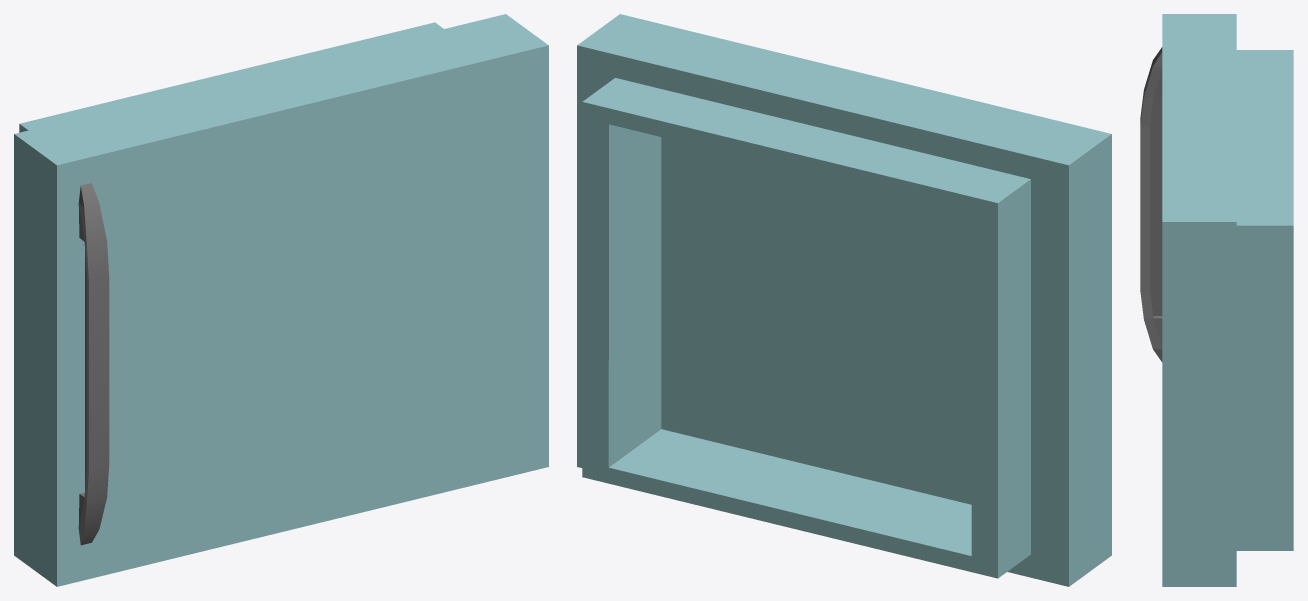
File: Itr_Obj_Fridge2_Bottom_Door_05.FBX
3 views of the same model, side by side, from view 1: azimuth 30°, elevation 25°; view 2: azimuth 150°, elevation 25°; view 3: azimuth 270°, elevation 25° (orthographic). The views are drawn at different scales.
Visible parts, largest first — view 1: Itr_Obj_Fridge2_Bottom_Door_05; view 2: Itr_Obj_Fridge2_Bottom_Door_05; view 3: Itr_Obj_Fridge2_Bottom_Door_05.
Part boxes in pixels (box(x1,y1,x2,y2)): Itr_Obj_Fridge2_Bottom_Door_05: box(14, 14, 548, 586); Itr_Obj_Fridge2_Bottom_Door_05: box(577, 14, 1111, 586); Itr_Obj_Fridge2_Bottom_Door_05: box(1140, 14, 1293, 586).
Size of the model in its own units: 34.44 by 28.21 by 10.74.
